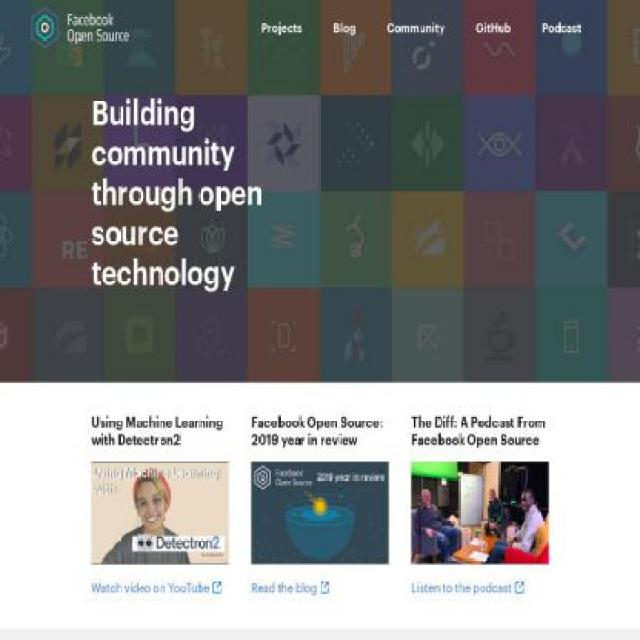button: (31, 6, 162, 48), (92, 579, 210, 596), (411, 579, 512, 596), (252, 579, 318, 596)
